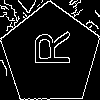R: (25, 30, 70, 67)
